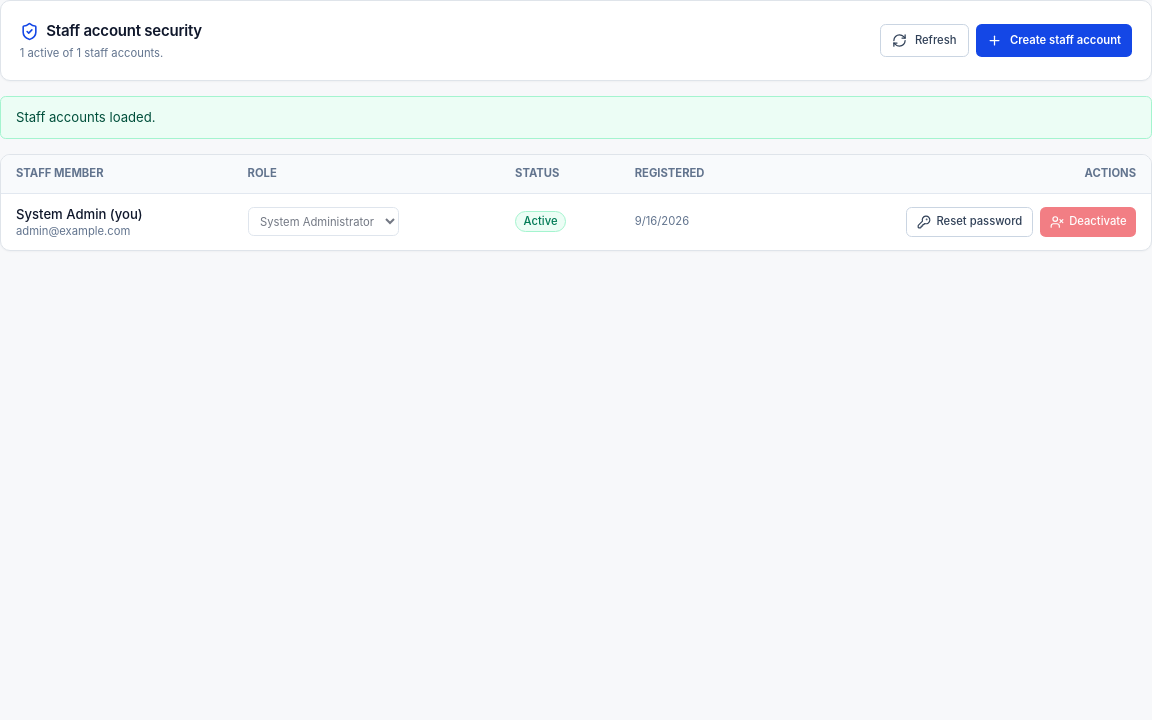
StaffManagement action feedback › identifies every missing or invalid staff-account field accessibly
Step 1. Click the button "Create staff account" → {"x": 1054, "y": 40}, box x1=976 y1=24 x2=1132 y2=57
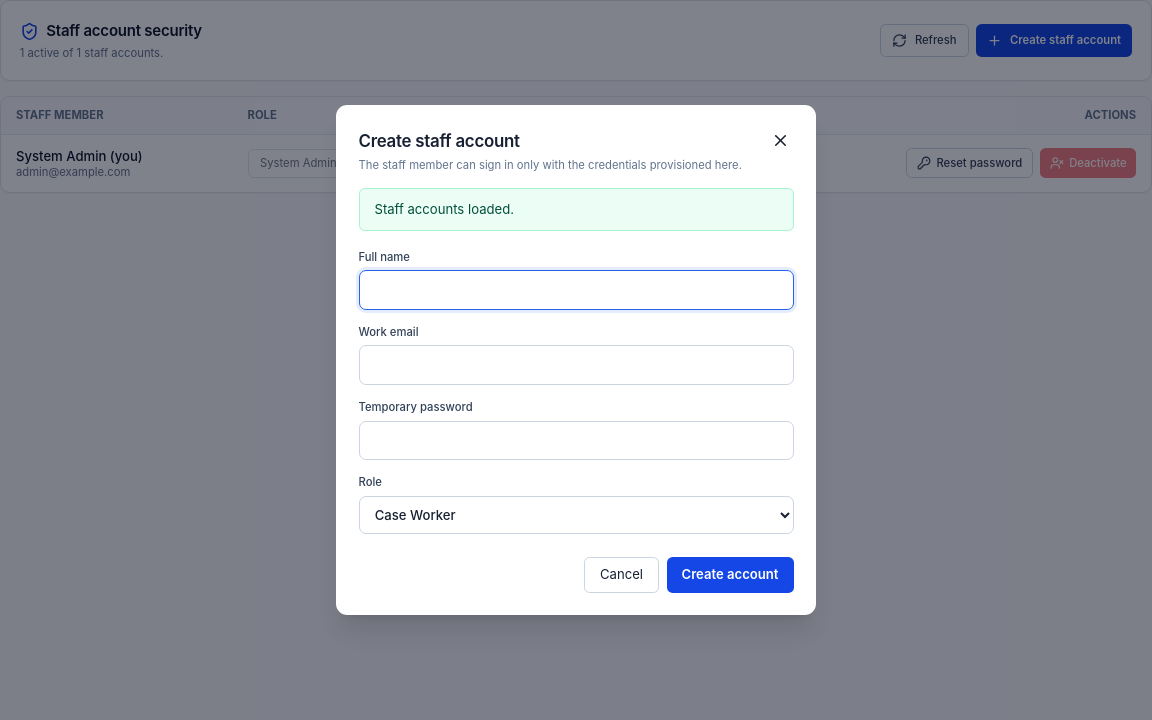
Step 2. Click the button "Create account" → {"x": 730, "y": 575}, box x1=666 y1=557 x2=794 y2=593
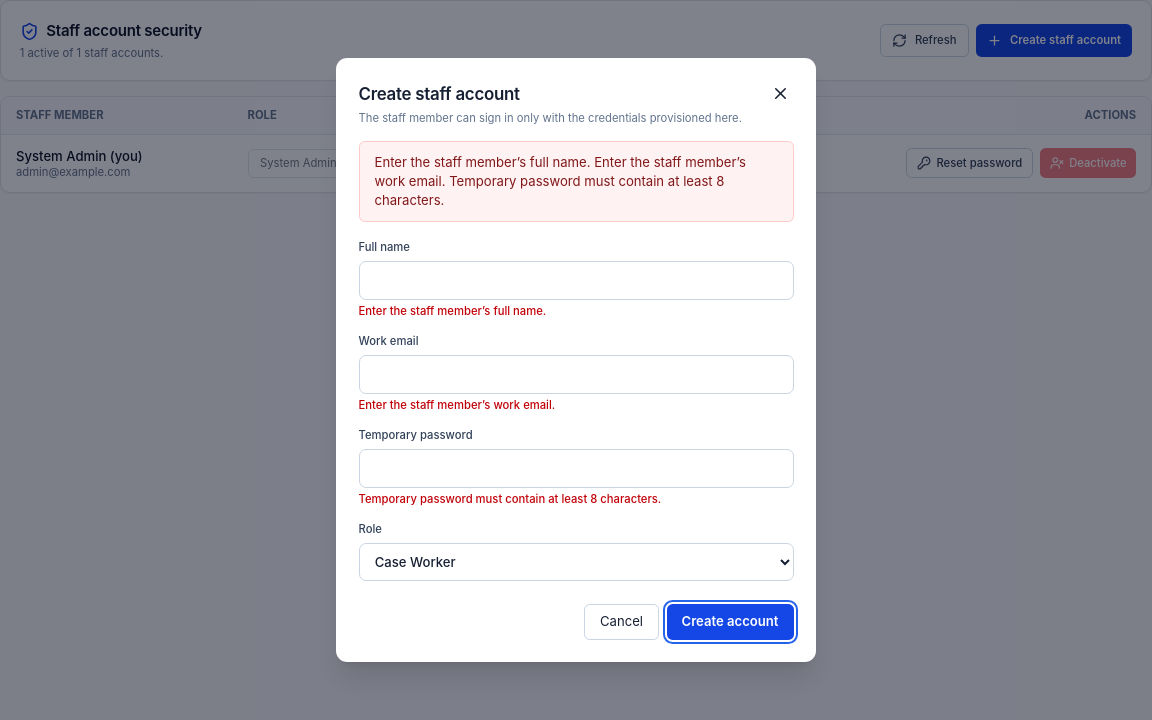
Expected: the message shows "full name", x1=374 y1=154 x2=746 y2=208
Expected: the message shows "work email", x1=374 y1=154 x2=746 y2=208
Expected: the message shows "at least 8 characters", x1=374 y1=154 x2=746 y2=208
